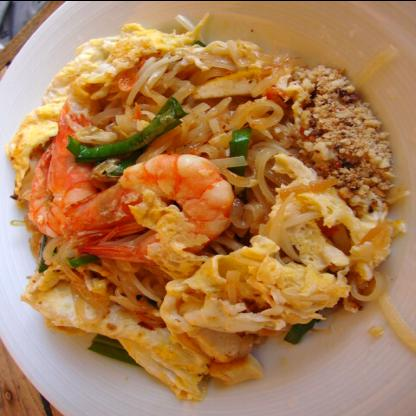Pad Thai: (10, 33, 398, 399)
